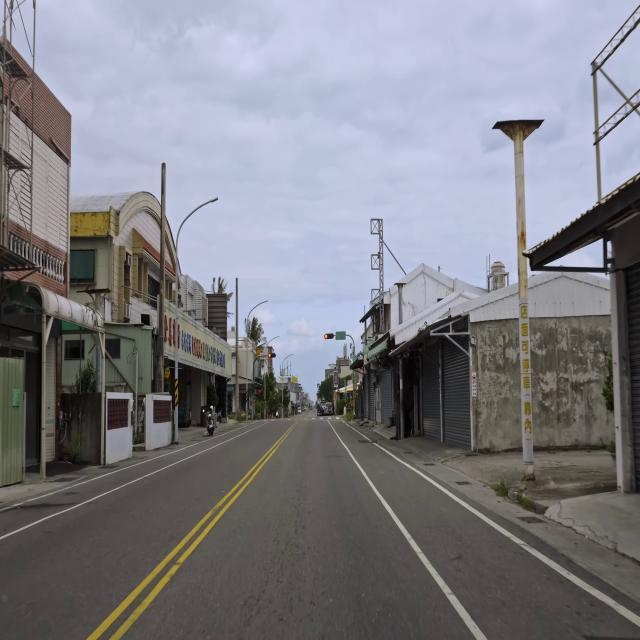red light: (324, 333, 334, 340), (268, 353, 276, 358)
